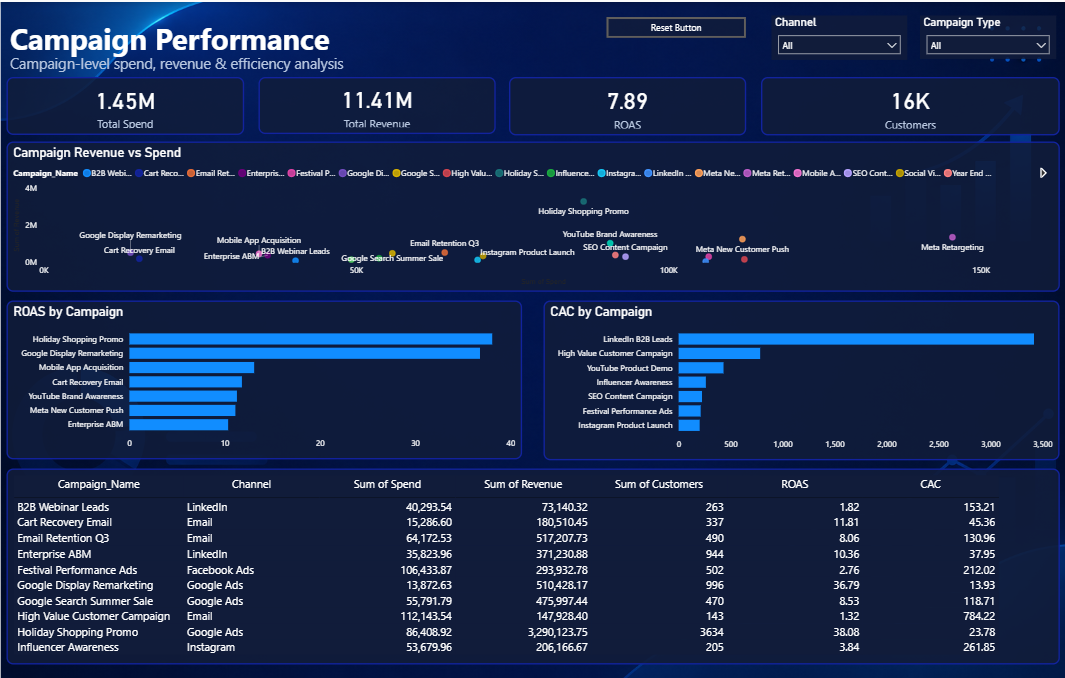

The dashboard page shown, as its layout file describes it:
{"tool":"powerbi","page":{"name":"Campaign Performance","canvas":[1600,1000],"ordinal":1},"visuals":[{"type":"textbox","box":[25,20,650,77],"z":0},{"type":"textbox","box":[25,70,585.4,46.4],"z":1000},{"type":"card","fields":{"Values":["Sum(campaign_performance.Spend)"]},"box":[25,110,350,85],"z":2000},{"type":"card","fields":{"Values":["Sum(campaign_performance.Revenue)"]},"box":[395,110,349.1,83.9],"z":3000},{"type":"card","fields":{"Values":["campaign_performance.ROAS"]},"box":[765,110,349.1,86.2],"z":4000},{"type":"card","fields":{"Values":["Sum(campaign_performance.Customers)"]},"box":[1135,110,440,86.2],"z":5000},{"type":"scatterChart","title":"Campaign Revenue vs Spend","fields":{"X":["Sum(campaign_performance.Spend)"],"Y":["Sum(campaign_performance.Revenue)"],"Series":["campaign_performance.Campaign_Name"]},"box":[24.9,205,1551.1,221.6],"z":6000},{"type":"clusteredBarChart","title":"ROAS by Campaign","fields":{"Y":["campaign_performance.ROAS"],"Category":["campaign_performance.Campaign_Name"]},"box":[24.9,440,759.3,234],"z":7000},{"type":"clusteredBarChart","title":"CAC by Campaign","fields":{"Category":["campaign_performance.Campaign_Name"],"Y":["campaign_performance.CAC"]},"box":[815,440,760,235],"z":8000},{"type":"tableEx","fields":{"Values":["campaign_performance.Campaign_Name","campaign_performance.Channel","Sum(campaign_performance.Spend)","Sum(campaign_performance.Revenue)","Sum(campaign_performance.Customers)","campaign_performance.ROAS","campaign_performance.CAC"]},"box":[24.9,687.1,1551.1,288.8],"z":9000},{"type":"slicer","title":"Channel","fields":{"Values":["campaign_performance.Channel"]},"box":[1150,20,200,65],"z":10000},{"type":"slicer","title":"Campaign Type","fields":{"Values":["campaign_performance.Campaign_Type"]},"box":[1370,20,200.8,63.8],"z":11000},{"type":"actionButton","box":[908,22.1,205.5,30.9],"z":12000}]}

Visuals, with their boxes in screenshot pixels (x1, y1, x2, y2), scaled from the page's 1600x1000 canvas onto the 1065x678 screenshot:
textbox: bbox(17, 14, 449, 66)
textbox: bbox(17, 47, 406, 79)
card - Sum(campaign_performance.Spend): bbox(17, 75, 250, 132)
card - Sum(campaign_performance.Revenue): bbox(263, 75, 495, 131)
card - campaign_performance.ROAS: bbox(509, 75, 742, 133)
card - Sum(campaign_performance.Customers): bbox(755, 75, 1048, 133)
"Campaign Revenue vs Spend" scatterChart: bbox(17, 139, 1049, 289)
"ROAS by Campaign" clusteredBarChart: bbox(17, 298, 522, 457)
"CAC by Campaign" clusteredBarChart: bbox(542, 298, 1048, 458)
tableEx - campaign_performance.Campaign_Name x campaign_performance.Channel: bbox(17, 466, 1049, 662)
"Channel" slicer: bbox(765, 14, 899, 58)
"Campaign Type" slicer: bbox(912, 14, 1046, 57)
actionButton: bbox(604, 15, 741, 36)
